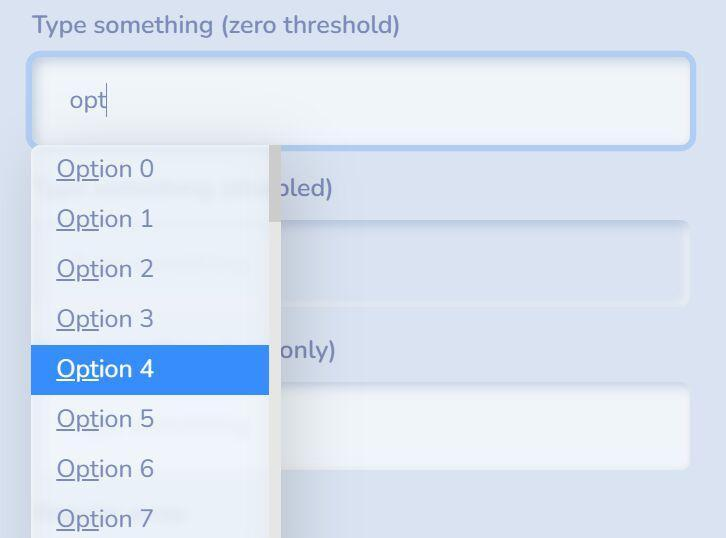button: (31, 346, 270, 395)
input: (36, 59, 690, 149)
label: (26, 11, 410, 41)
